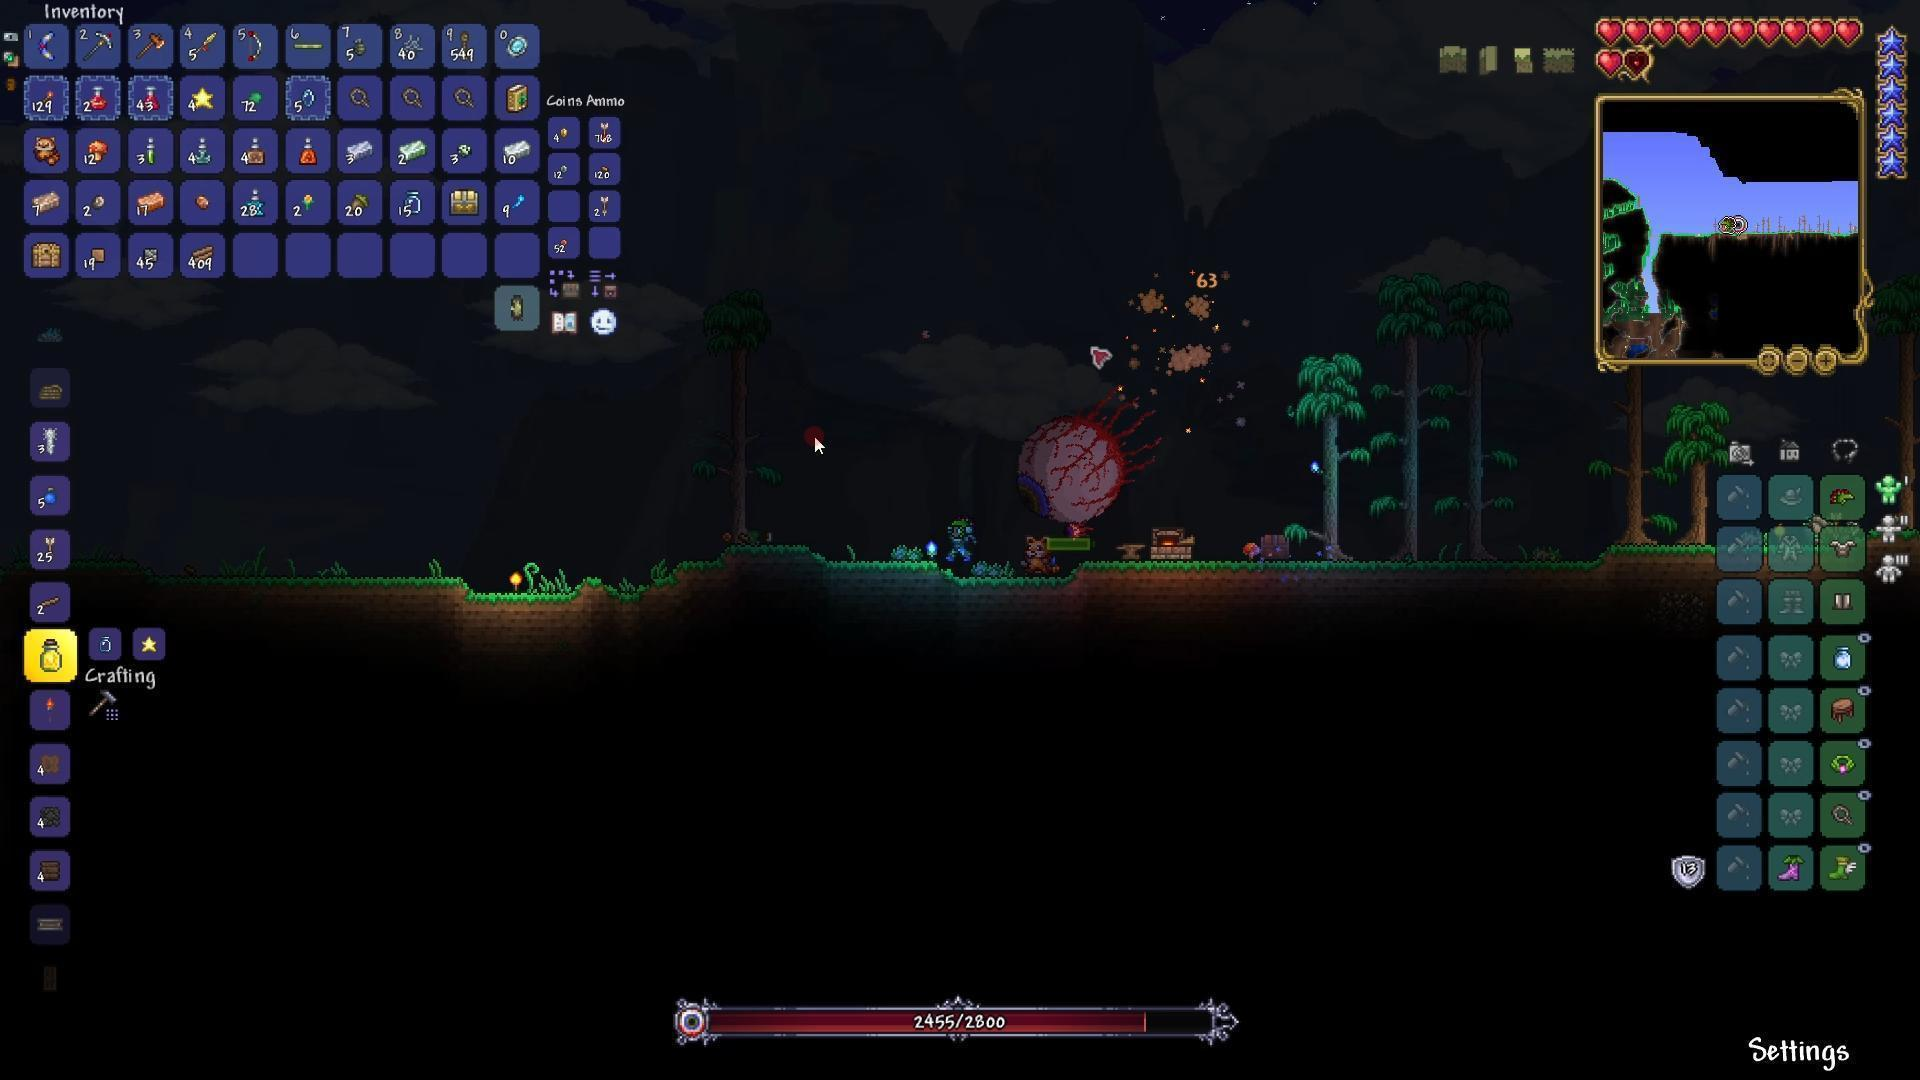anvil: (1113, 534, 1149, 574)
arrow: (44, 534, 57, 563)
breastplate: (1826, 534, 1859, 559)
chest: (1261, 522, 1302, 570), (447, 187, 483, 216)
cobwebI: (405, 34, 425, 54)
eyeC: (998, 384, 1163, 531)
furnace: (1145, 520, 1207, 570)
legs: (1832, 589, 1857, 615)
lens: (299, 83, 316, 111)
mirror: (491, 18, 550, 70)
